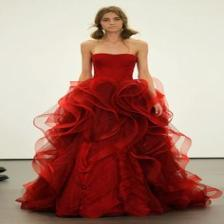red: (17, 54, 222, 218)
